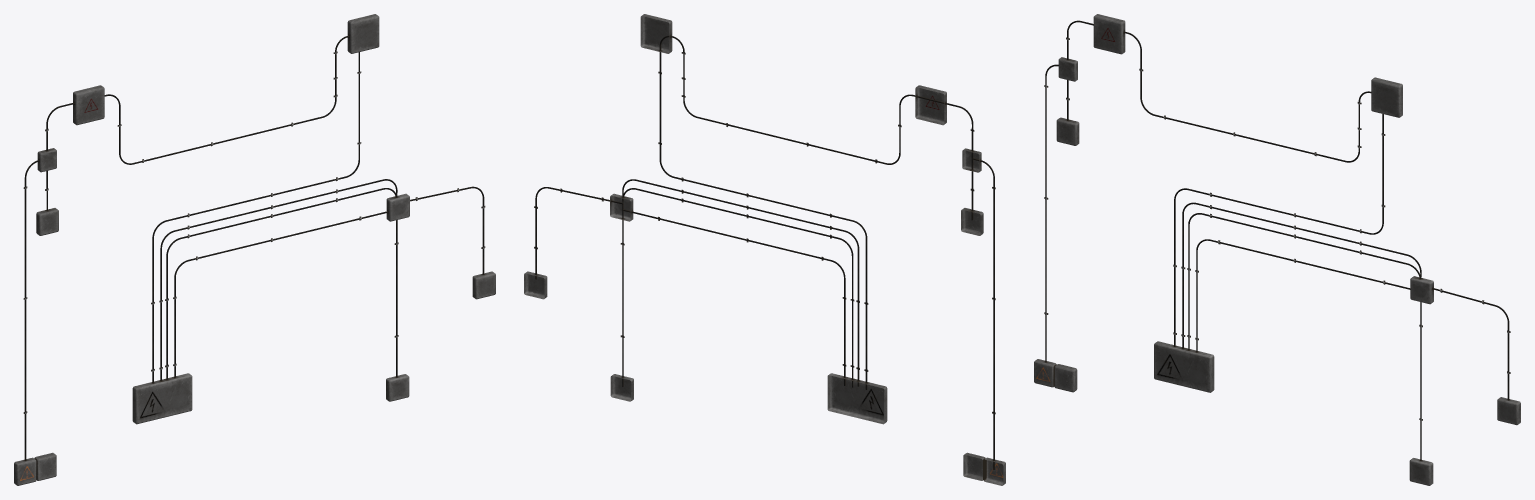
Rendered from power_cable_wiring.glb.
3 views of the same model, side by side, from view 1: azimuth 30°, elevation 25°; view 2: azimuth 150°, elevation 25°; view 3: azimuth 330°, elevation 25° (orthographic).
Visible parts, largest first — view 1: Sweep; view 2: Sweep; view 3: Sweep.
Boxes of the visible parts, x1,y1,x2,y2 form: Sweep: (14,14,495,485); Sweep: (524,14,1005,485); Sweep: (1034,14,1520,485).
Size of the model in its own units: 6.98 by 5.41 by 0.0869.
Materials: 1 (1 with a texture image).
